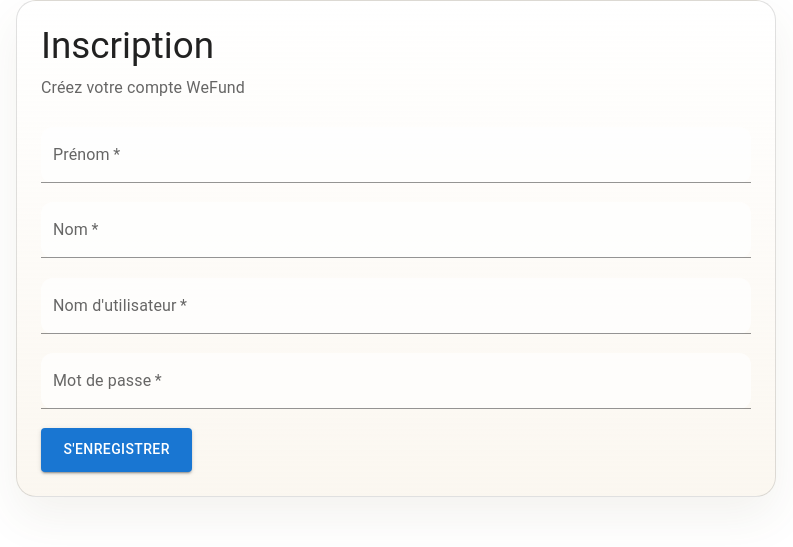
SignupForm › affiche une erreur si le mot de passe est trop court
Type "alice" into the field labelled "Prénom *" at (396, 155), box [41,127,751,183]
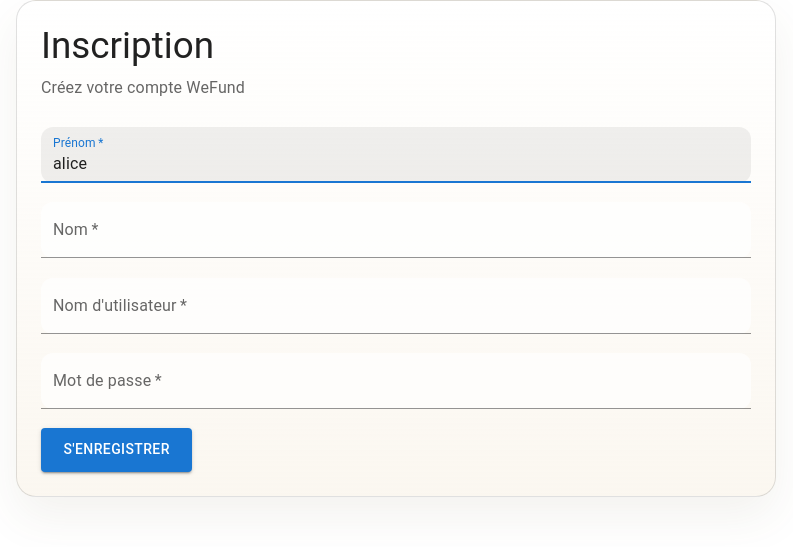
Type "duval" into the field labelled "Nom *" at (396, 230), box [41,202,751,258]
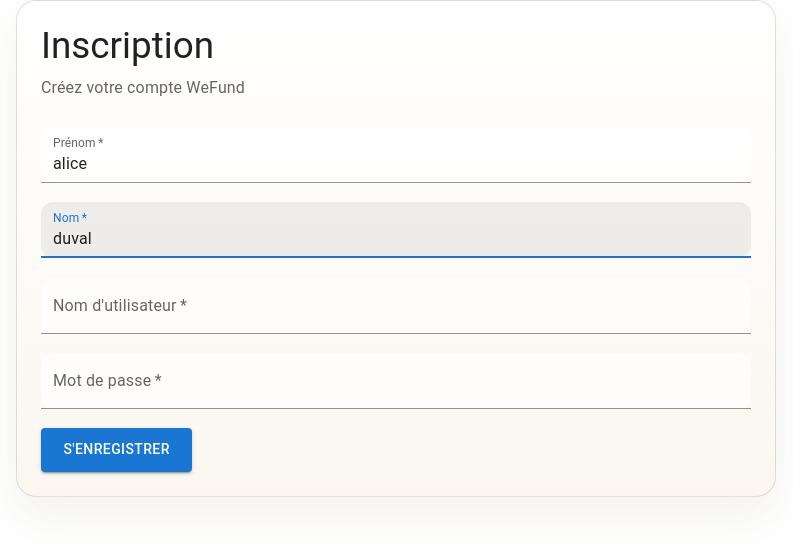
Type "alice" into the field labelled "Nom d'utilisateur *" at (396, 306), box [41,278,751,334]
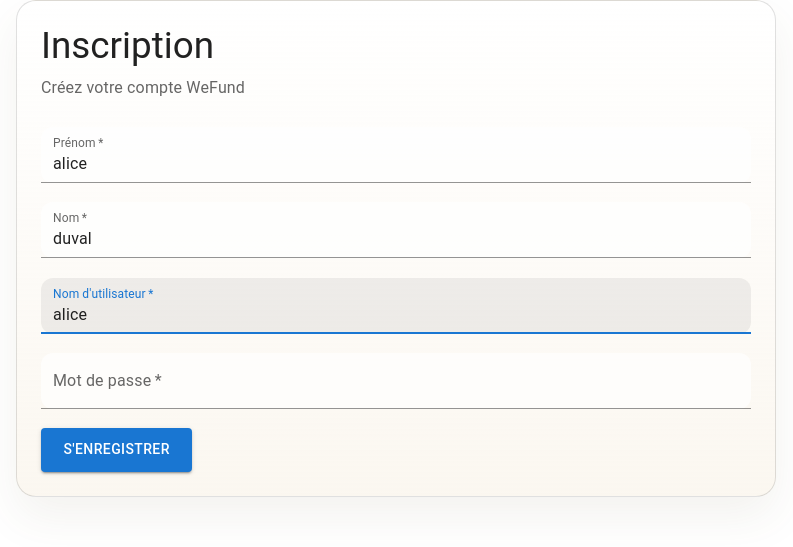
Type "abc" into the password field labelled "Mot de passe *" at (396, 381), box [41,353,751,409]
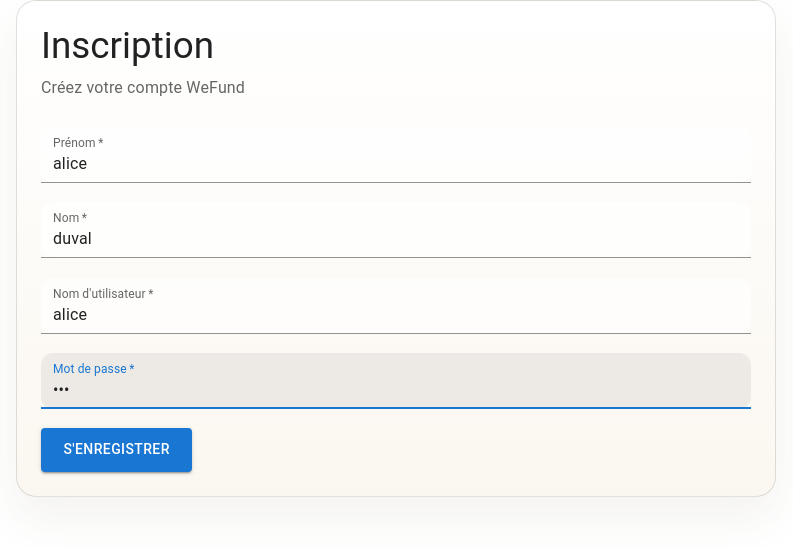
Click the button "S'enregistrer" at (117, 450), box [41,428,192,472]
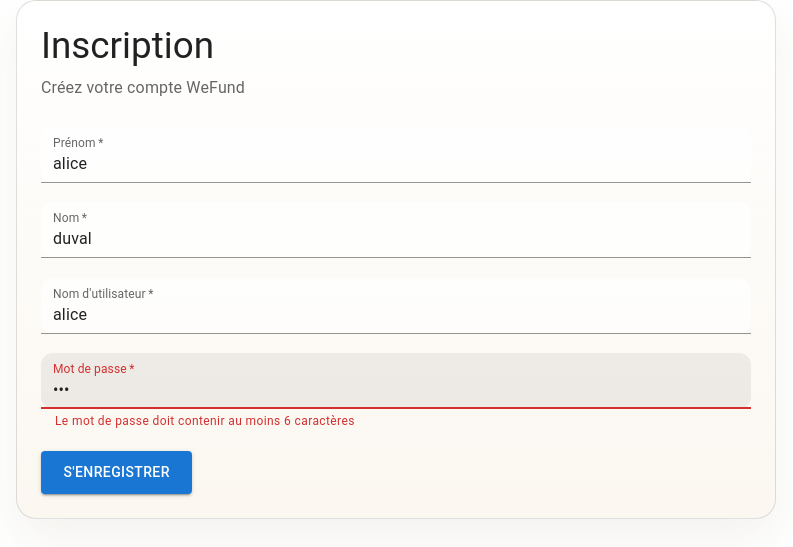
Check: the text "Le mot de passe doit contenir au moins 6 caractères" is shown, box [55,414,355,428]
